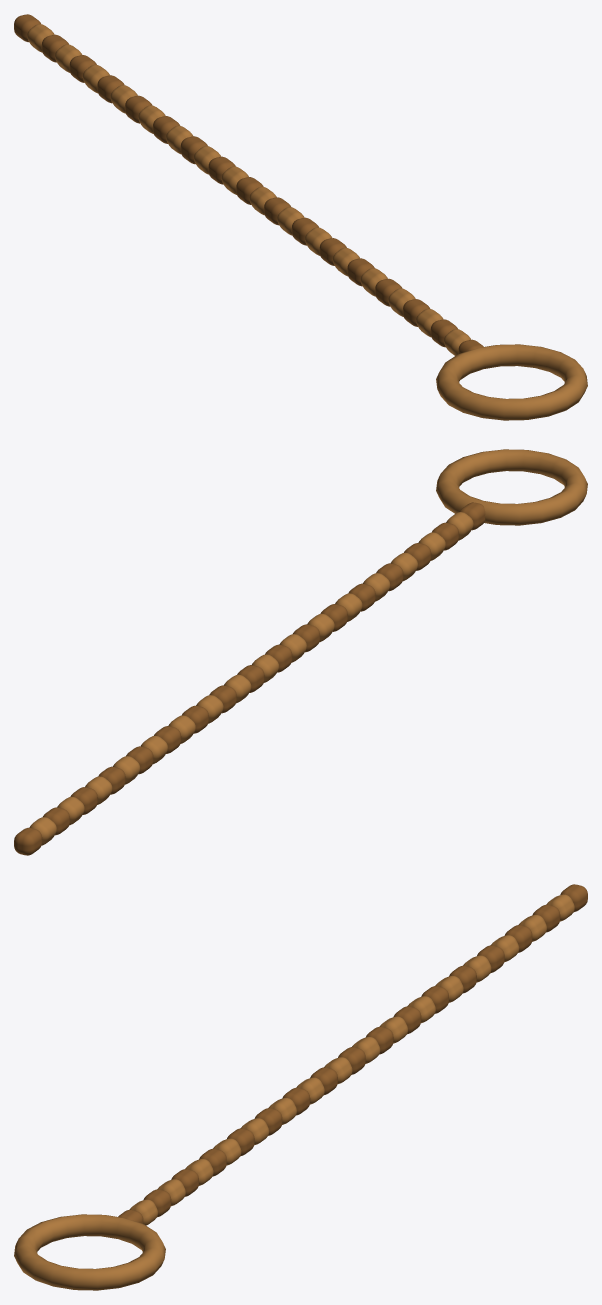
Rendered from rope.glb.
3 renders of one model, top to bottom at view 1: azimuth 30°, elevation 25°; view 2: azimuth 150°, elevation 25°; view 3: azimuth 330°, elevation 25°, orthographic.
Parts seen in each view (by area): view 1: rope, loop; view 2: rope, loop; view 3: rope, loop.
Part boxes in pixels (x1,y1,x2,y2): rope: (14,14,483,355); loop: (436,344,587,420); rope: (14,502,485,855); loop: (436,449,587,525); rope: (118,884,587,1225); loop: (14,1214,165,1290).
Bounding box in the file's own units: 0.66 × 0.1068 × 4.58.
